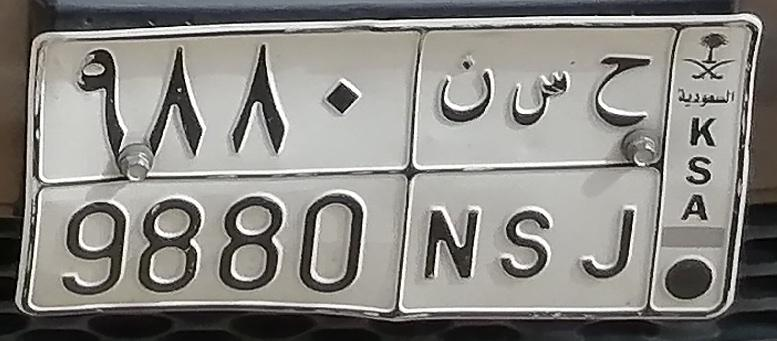0: (295, 78, 367, 294)
8: (213, 42, 297, 293), (133, 45, 205, 297)
9: (54, 47, 137, 300)
J: (577, 52, 654, 281)
N: (418, 55, 495, 285)
S: (497, 70, 574, 282)
